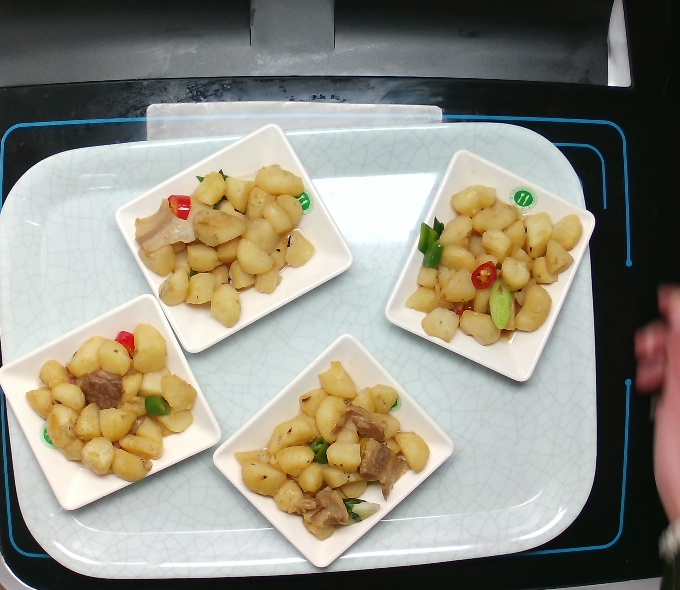wcq-MaTiGuoChaoRou: (232, 358, 434, 549), (16, 316, 204, 487), (410, 176, 589, 355), (133, 158, 320, 329)
